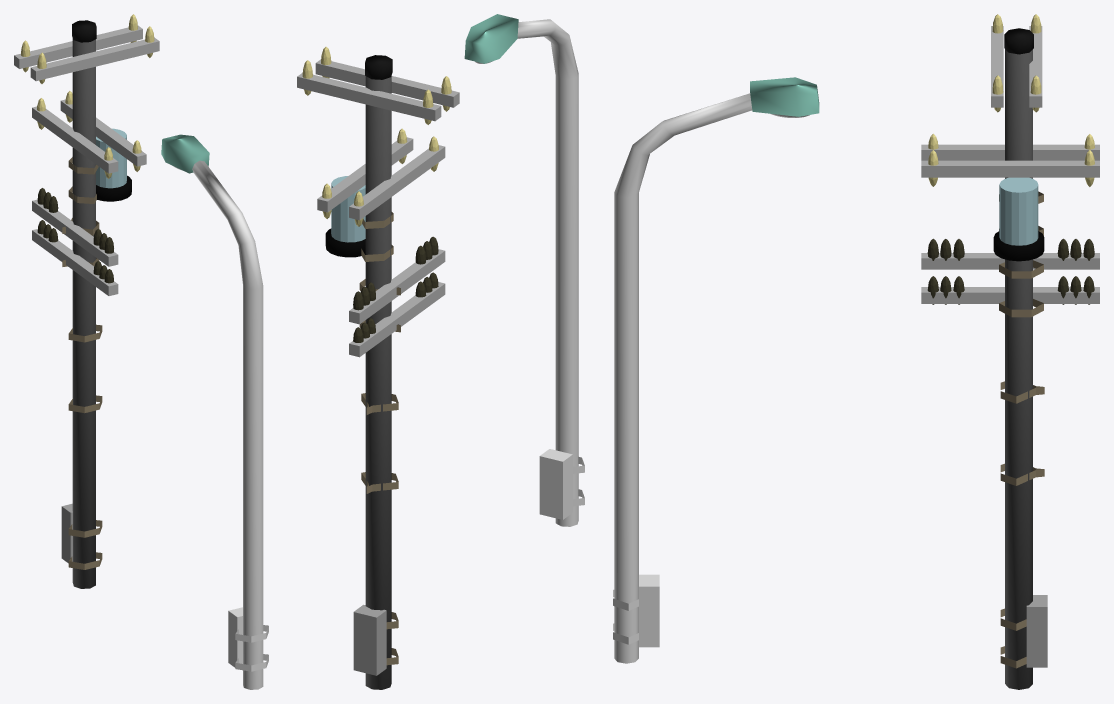
The picture shows the model from 3 angles, left to right: view 1: azimuth 30°, elevation 25°; view 2: azimuth 150°, elevation 25°; view 3: azimuth 270°, elevation 25°; orthographic projection. The views are drawn at different scales.
Visible parts, largest first — view 1: Cylinder.006, Cylinder; view 2: Cylinder.006, Cylinder; view 3: Cylinder.006, Cylinder.
Part boxes in pixels (<box>): Cylinder.006: <box>14,14,159,588</box>; Cylinder: <box>161,134,268,689</box>; Cylinder.006: <box>297,46,459,689</box>; Cylinder: <box>464,14,584,526</box>; Cylinder.006: <box>921,14,1099,689</box>; Cylinder: <box>613,77,819,663</box>.
Bounding box in the file's own units: 1186 × 5118 × 3477.
